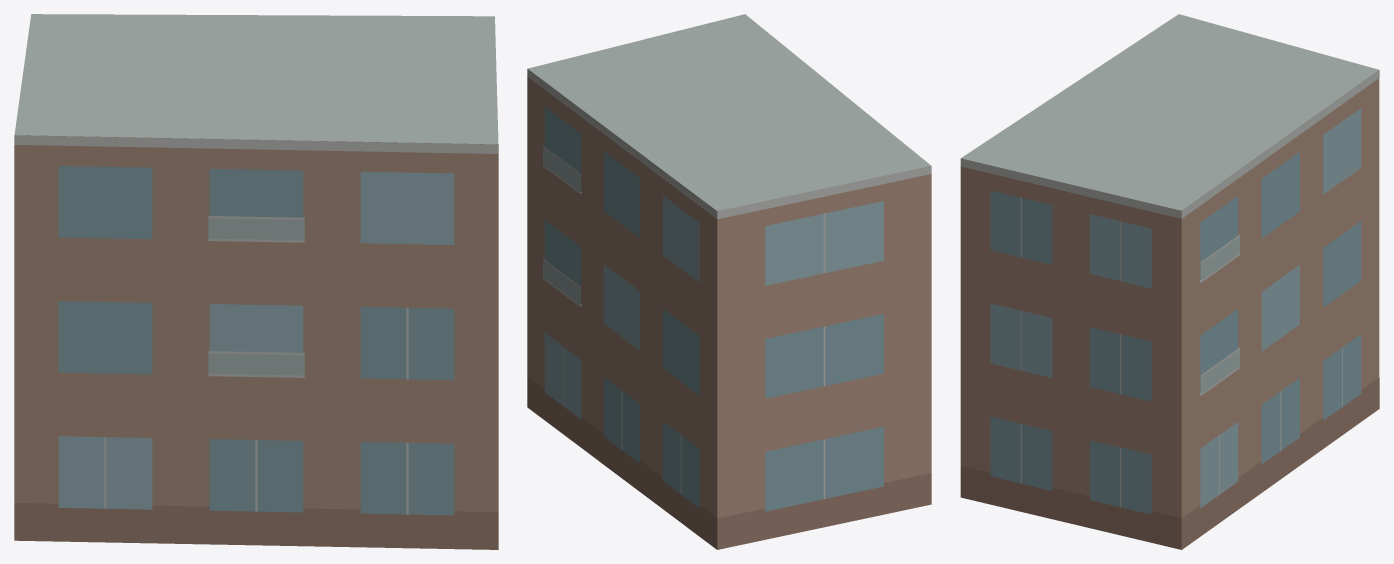
File: survey-upis-32481946.glb
3 views of the same model, side by side, from view 1: azimuth 30°, elevation 25°; view 2: azimuth 150°, elevation 25°; view 3: azimuth 270°, elevation 25° (orthographic). The views are drawn at different scales.
Parts seen in each view (by area): view 1: survey-upis-32481946.tmp; view 2: survey-upis-32481946.tmp; view 3: survey-upis-32481946.tmp.
Boxes of the visible parts, x1=… form: survey-upis-32481946.tmp: x1=14, y1=14, x2=498, y2=549; survey-upis-32481946.tmp: x1=527, y1=14, x2=931, y2=549; survey-upis-32481946.tmp: x1=960, y1=14, x2=1379, y2=549.
Bounding box in the file's own units: 12.7 × 10.2 × 11.42.
